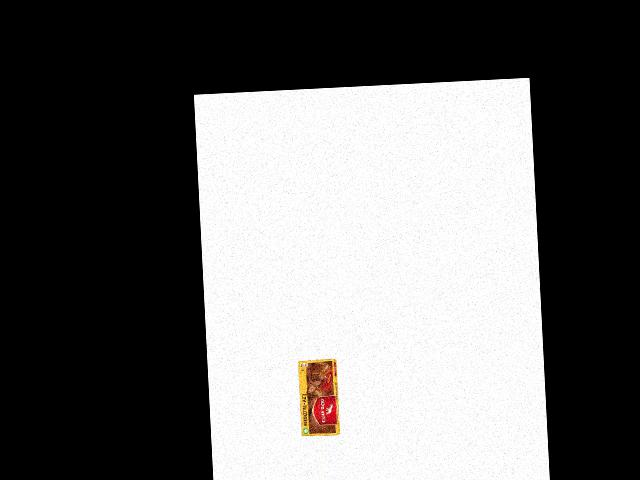chocolate: (291, 357, 342, 437)
